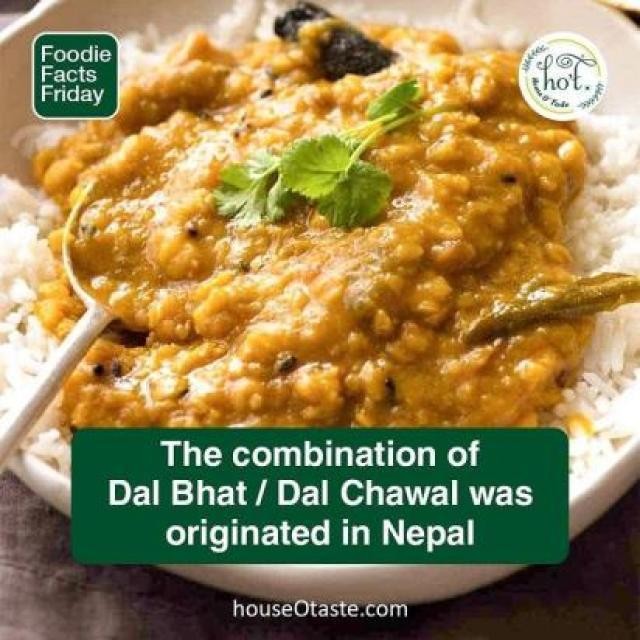dal: (100, 106, 538, 380)
